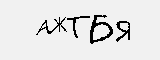А: (36, 18, 52, 37)
Б: (90, 14, 115, 46)
Ж: (52, 16, 68, 35)
Т: (67, 14, 89, 40)
Я: (115, 18, 135, 45)
